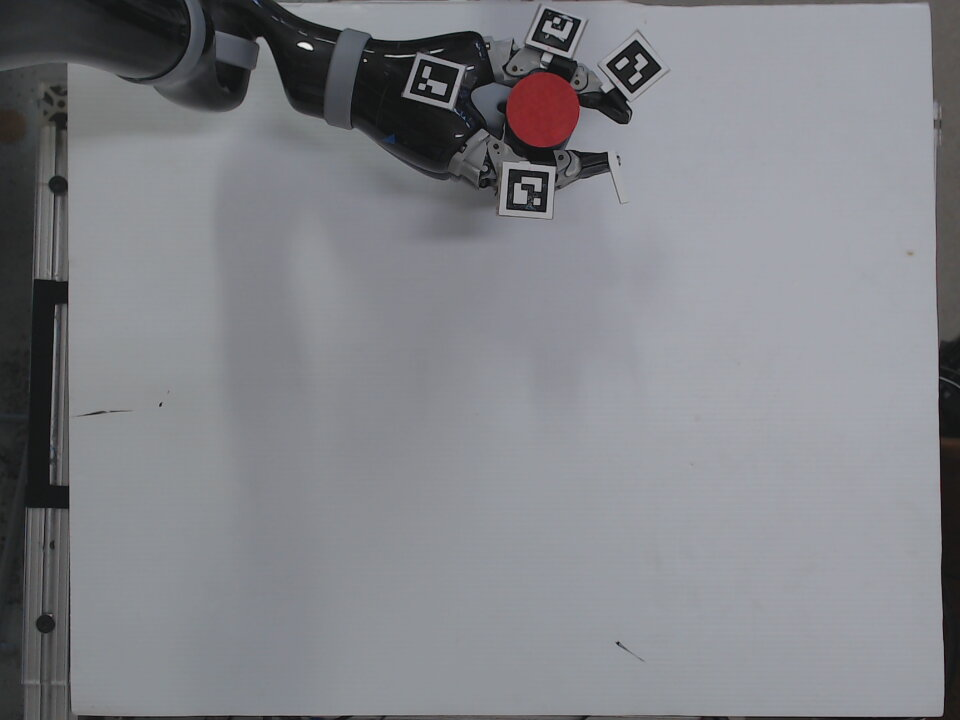cylinder: (501, 68, 583, 157)
